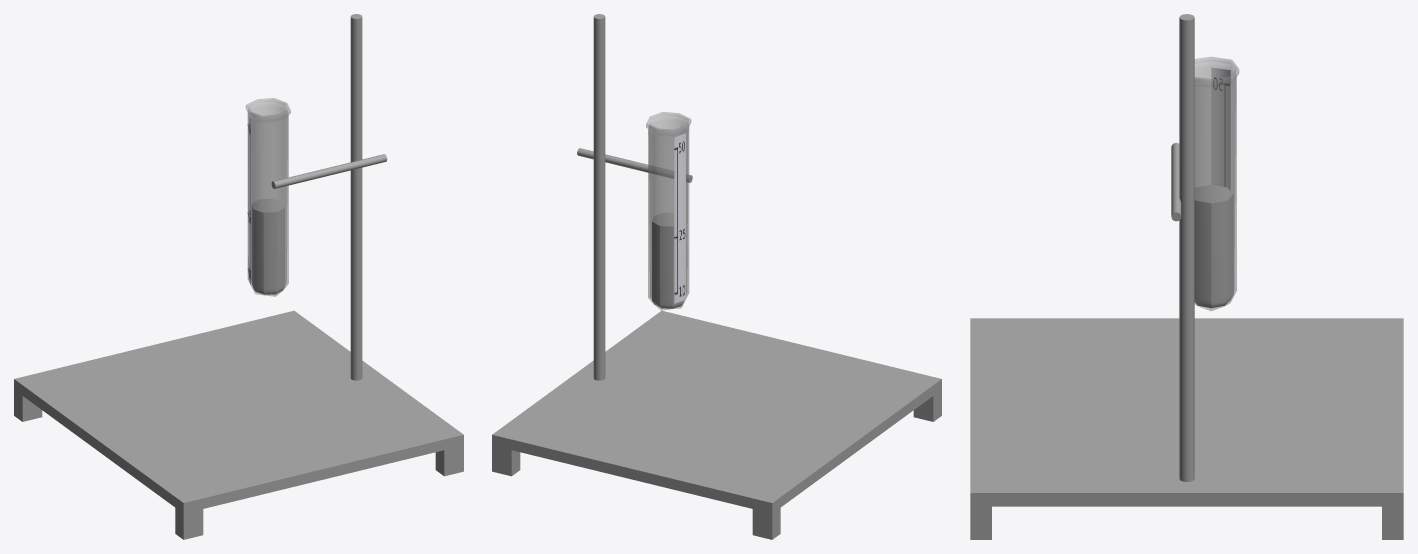
The model's file is Metallic_Oxides_with_Acids.fbx.
3 renders of one model, left to right at view 1: azimuth 30°, elevation 25°; view 2: azimuth 150°, elevation 25°; view 3: azimuth 270°, elevation 25°, orthographic. The views are drawn at different scales.
Visible parts, largest first — view 1: pCube8, test_tube12, pCylinder41, pCylinder44, pCylinder43; view 2: pCube8, test_tube12, pCylinder41, pCylinder44, pCylinder43; view 3: pCube8, test_tube12, pCylinder41, pCylinder44, pCylinder43.
Boxes of the visible parts, x1,y1,x2,y2 form: pCube8: [14, 310, 463, 539]; test_tube12: [245, 98, 290, 296]; pCylinder41: [350, 14, 362, 380]; pCylinder44: [251, 198, 284, 294]; pCylinder43: [271, 154, 387, 188]; pCube8: [492, 310, 941, 539]; test_tube12: [646, 112, 691, 310]; pCylinder41: [593, 14, 605, 380]; pCylinder44: [652, 212, 683, 308]; pCylinder43: [577, 148, 692, 182]; pCube8: [970, 318, 1403, 539]; test_tube12: [1194, 56, 1239, 311]; pCylinder41: [1179, 14, 1194, 481]; pCylinder44: [1194, 184, 1233, 307]; pCylinder43: [1171, 142, 1181, 221].
Bounding box in the file's own units: 42.28 × 57.04 × 44.01.
4 materials, 1 textured.
